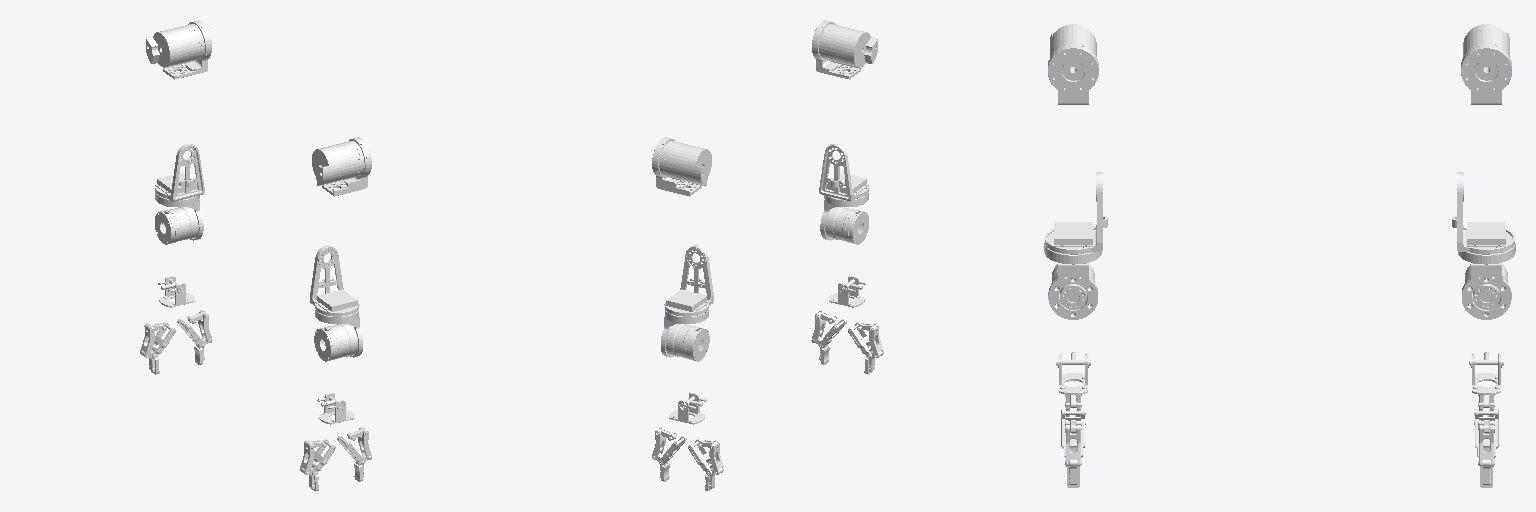
URDF robot description (biped_v3):
<?xml version='1.0' encoding='UTF-8'?>
<!-- This URDF was automatically created by SolidWorks to URDF Exporter! Originally created by [author] ([email redacted]) 
     Commit Version: 1.6.0-4-g7f85cfe  Build Version: 1.6.7995.38578
     For more information, please see http://wiki.ros.org/sw_urdf_exporter -->
<robot name="biped_v3">
  <link name="torso">
    <inertial>
      <origin xyz="-0.00699293960383802 0.00155633220268026 0.152865943474551" rpy="0 0 0"/>
      <mass value="7.71324827879796"/>
      <inertia ixx="0.0426865291658434" ixy="1.85724164379468E-06" ixz="0.0010941107421191" iyy="0.020412125396821" iyz="-3.14875771284261E-06" izz="0.0372747742844986"/>
    </inertial>
    <visual>
      <origin xyz="0 0 0" rpy="0 0 0"/>
      <geometry>
        <mesh filename="../meshes/base_link.obj"/>
      </geometry>
      <material name="">
        <color rgba="0.862745098039216 0.933333333333333 0.929411764705882 1"/>
      </material>
    </visual>
  </link>

  <!-- left arm -->
  <link name="l_arm_pitch">
    <inertial>
      <origin xyz="0.0214306014937492 0.0894803474436048 0.000615912525740503" rpy="0 0 0"/>
      <mass value="0.0855565384250596"/>
      <inertia ixx="0.000130680980046145" ixy="-2.8051476508872E-05" ixz="-4.43154983770371E-08" iyy="6.72732423481097E-05" iyz="-1.04235209424077E-06" izz="0.000113833719965484"/>
    </inertial>
    <visual>
      <origin xyz="0 0 0" rpy="0 0 0"/>
      <geometry>
        <mesh filename="../meshes/l_arm_pitch.obj"/>
      </geometry>
      <material name="">
        <color rgba="1 1 1 1"/>
      </material>
    </visual>
  </link>
  <joint name="l_arm_pitch" type="continuous">
    <origin xyz="-0.0174998525199999 0.121 0.3145" rpy="0 0 0"/>
    <parent link="torso"/>
    <child link="l_arm_pitch"/>
    <axis xyz="0 1 0"/>
  </joint>
  <transmission type="SimpleTransmission">
    <joint name="l_arm_pitch"/>
    <actuator name="l_arm_pitch_motor"/>
  </transmission>

  <link name="l_arm_roll">
    <inertial>
      <origin xyz="-0.035737115963316 0.000637394005623571 -0.00293587457508399" rpy="0 0 0"/>
      <mass value="0.243859089022774"/>
      <inertia ixx="0.000128360157970662" ixy="6.10295766830323E-06" ixz="-1.04763903813656E-05" iyy="0.000190119380770336" iyz="1.1072652385836E-06" izz="0.000178903820792462"/>
    </inertial>
    <visual>
      <origin xyz="0 0 0" rpy="0 0 0"/>
      <geometry>
        <mesh filename="../meshes/l_arm_roll.obj"/>
      </geometry>
      <material name="">
        <color rgba="1 1 1 1"/>
      </material>
    </visual>
  </link>
  <joint name="l_arm_roll" type="continuous">
    <origin xyz="0.0638750000000005 0.143475 0" rpy="0 0 0"/>
    <parent link="l_arm_pitch"/>
    <child link="l_arm_roll"/>
    <axis xyz="1 0 0"/>
  </joint>
  <transmission type="SimpleTransmission">
    <joint name="l_arm_roll"/>
    <actuator name="l_arm_roll_motor"/>
  </transmission>

  <link name="l_arm_yaw">
    <inertial>
      <origin xyz="-0.000196754553523828 -0.00200221985054488 -0.0822363960198868" rpy="0 0 0"/>
      <mass value="0.231645925727573"/>
      <inertia ixx="7.15763821808342E-05" ixy="-7.20357840527445E-07" ixz="1.2879634524044E-07" iyy="0.000116064001916274" iyz="-3.24539663479111E-06" izz="0.000102450224641922"/>
    </inertial>
    <visual>
      <origin xyz="0 0 0" rpy="0 0 0"/>
      <geometry>
        <mesh filename="../meshes/l_arm_yaw.obj"/>
      </geometry>
      <material name="">
        <color rgba="1 1 1 1"/>
      </material>
    </visual>
  </link>
  <joint name="l_arm_yaw" type="continuous">
    <origin xyz="-0.0436732904500001 -0.000228544867618807 -0.0507499999999994" rpy="0 0 0"/>
    <parent link="l_arm_roll"/>
    <child link="l_arm_yaw"/>
    <axis xyz="0 0.0045033014816499 0.999989860086474"/>
  </joint>
  <transmission type="SimpleTransmission">
    <joint name="l_arm_yaw"/>
    <actuator name="l_arm_yaw_motor"/>
  </transmission>

  <link name="l_forearm_pitch">
    <inertial>
      <origin xyz="-1.76621857590764E-09 0.0247675246684128 -0.070263864959373" rpy="0 0 0"/>
      <mass value="0.100717925891199"/>
      <inertia ixx="6.81753177964767E-05" ixy="-1.3166203212202E-12" ixz="-2.01946859234465E-12" iyy="6.38358674774755E-05" iyz="1.22265699624491E-05" izz="7.39768830554407E-05"/>
    </inertial>
    <visual>
      <origin xyz="0 0 0" rpy="0 0 0"/>
      <geometry>
        <mesh filename="../meshes/l_forearm_pitch.obj"/>
      </geometry>
      <material name="">
        <color rgba="1 1 1 1"/>
      </material>
    </visual>
  </link>
  <joint name="l_forearm_pitch" type="continuous">
    <origin xyz="0 -0.0300214551323814 -0.1357" rpy="0 0 0"/>
    <parent link="l_arm_yaw"/>
    <child link="l_forearm_pitch"/>
    <axis xyz="0 1 0"/>
  </joint>
  <transmission type="SimpleTransmission">
    <joint name="l_forearm_pitch"/>
    <actuator name="l_forearm_pitch_motor"/>
  </transmission>

  <link name="l_forearm_yaw">
    <inertial>
      <origin xyz="-0.00399570091504528 2.98471488309193E-05 -0.0656133809823523" rpy="0 0 0"/>
      <mass value="0.156174407901059"/>
      <inertia ixx="7.01872239868571E-05" ixy="-1.62696734264376E-07" ixz="-4.54392258182991E-07" iyy="7.29165229929418E-05" iyz="-7.2325873682261E-09" izz="6.87979464480365E-05"/>
    </inertial>
    <visual>
      <origin xyz="0 0 0" rpy="0 0 0"/>
      <geometry>
        <mesh filename="../meshes/l_forearm_yaw.obj"/>
      </geometry>
      <material name="">
        <color rgba="1 1 1 1"/>
      </material>
    </visual>
  </link>
  <joint name="l_forearm_yaw" type="continuous">
    <origin xyz="0 0.0302500000000002 -0.0915499999999999" rpy="0 0 0"/>
    <parent link="l_forearm_pitch"/>
    <child link="l_forearm_yaw"/>
    <axis xyz="0 0 1"/>
  </joint>
  <transmission type="SimpleTransmission">
    <joint name="l_forearm_yaw"/>
    <actuator name="l_forearm_yaw_motor"/>
  </transmission>

  <link name="l_hand_roll">
    <inertial>
      <origin xyz="0.0166010838376317 1.21699082866744E-07 1.73724289204147E-07" rpy="0 0 0"/>
      <mass value="0.00225080087545489"/>
      <inertia ixx="1.93486939049626E-07" ixy="1.34751407910019E-12" ixz="-9.12379114183907E-13" iyy="1.3659940311531E-07" iyz="2.34311788925342E-12" izz="3.17250990444323E-07"/>
    </inertial>
    <visual>
      <origin xyz="0 0 0" rpy="0 0 0"/>
      <geometry>
        <mesh filename="../meshes/l_hand_roll.obj"/>
      </geometry>
      <material name="">
        <color rgba="1 1 1 1"/>
      </material>
    </visual>
  </link>
  <joint name="l_hand_roll" type="continuous">
    <origin xyz="-0.025322 0 -0.1575" rpy="0 0 0"/>
    <parent link="l_forearm_yaw"/>
    <child link="l_hand_roll"/>
    <axis xyz="1 0 0"/>
  </joint>
  <transmission type="SimpleTransmission">
    <joint name="l_hand_roll"/>
    <actuator name="l_hand_roll_motor"/>
  </transmission>
  <link name="l_hand_pitch">
    <inertial>
      <origin xyz="0.00216452934621551 -6.77719551251399E-05 -0.0859772405742664" rpy="0 0 0"/>
      <mass value="0.0531311255846087"/>
      <inertia ixx="1.140633456061E-05" ixy="-1.76559662166693E-10" ixz="2.91544414425806E-07" iyy="1.10990606835989E-05" iyz="-7.83300192322812E-10" izz="8.19218367742265E-06"/>
    </inertial>
    <visual>
      <origin xyz="0 0 0" rpy="0 0 0"/>
      <geometry>
        <mesh filename="../meshes/l_hand_pitch.obj"/>
      </geometry>
      <material name="">
        <color rgba="1 1 1 1"/>
      </material>
    </visual>
  </link>
  <joint name="l_hand_pitch" type="continuous">
    <origin xyz="0.02137 0 0" rpy="0 0 0"/>
    <parent link="l_hand_roll"/>
    <child link="l_hand_pitch"/>
    <axis xyz="0 1 0"/>
  </joint>
  <transmission type="SimpleTransmission">
    <joint name="l_hand_pitch"/>
    <actuator name="l_hand_pitch_motor"/>
  </transmission>

  <!-- right arm -->
  <link name="r_arm_pitch">
    <inertial>
      <origin xyz="0.0214306041026405 -0.0844803465442086 0.00061581470811356" rpy="0 0 0"/>
      <mass value="0.0855564935505709"/>
      <inertia ixx="0.000130680921242486" ixy="2.80514667713823E-05" ixz="-4.43612197682304E-08" iyy="6.72732085095452E-05" iyz="1.04250551958736E-06" izz="0.000113833677598239"/>
    </inertial>
    <visual>
      <origin xyz="0 0 0" rpy="0 0 0"/>
      <geometry>
        <mesh filename="../meshes/r_arm_pitch.obj"/>
      </geometry>
      <material name="">
        <color rgba="1 1 1 1"/>
      </material>
    </visual>
  </link>
  <joint name="r_arm_pitch" type="continuous">
    <origin xyz="-0.0174998525199999 -0.126 0.3145" rpy="0 0 0"/>
    <parent link="torso"/>
    <child link="r_arm_pitch"/>
    <axis xyz="0 1 0"/>
  </joint>
  <transmission type="SimpleTransmission">
    <joint name="r_arm_pitch"/>
    <actuator name="r_arm_pitch_motor"/>
  </transmission>

  <link name="r_arm_roll">
    <inertial>
      <origin xyz="-0.0357371168973825 -0.000637394797891544 -0.00293587513361748" rpy="0 0 0"/>
      <mass value="0.24385908133804"/>
      <inertia ixx="0.000128360143073782" ixy="-6.10295800980191E-06" ixz="-1.0476390047817E-05" iyy="0.000190119367974024" iyz="-1.10726166060552E-06" izz="0.000178903821203388"/>
    </inertial>
    <visual>
      <origin xyz="0 0 0" rpy="0 0 0"/>
      <geometry>
        <mesh filename="../meshes/r_arm_roll.obj"/>
      </geometry>
      <material name="">
        <color rgba="1 1 1 1"/>
      </material>
    </visual>
  </link>
  <joint name="r_arm_roll" type="continuous">
    <origin xyz="0.0638750000000006 -0.138475 0" rpy="0 0 0"/>
    <parent link="r_arm_pitch"/>
    <child link="r_arm_roll"/>
    <axis xyz="1 0 0"/>
  </joint>
  <transmission type="SimpleTransmission">
    <joint name="r_arm_roll"/>
    <actuator name="r_arm_roll_motor"/>
  </transmission>

  <link name="r_arm_yaw">
    <inertial>
      <origin xyz="-0.000194980244391281 0.00223075394549077 -0.0832363148203375" rpy="0 0 0"/>
      <mass value="0.231645950350007"/>
      <inertia ixx="7.15747672025054E-05" ixy="7.20299540431296E-07" ixz="1.30045936565256E-07" iyy="0.00011606243891087" iyz="3.24540546737595E-06" izz="0.000102450220317482"/>
    </inertial>
    <visual>
      <origin xyz="0 0 0" rpy="0 0 0"/>
      <geometry>
        <mesh filename="../meshes/r_arm_yaw.obj"/>
      </geometry>
      <material name="">
        <color rgba="1 1 1 1"/>
      </material>
    </visual>
  </link>
  <joint name="r_arm_yaw" type="continuous">
    <origin xyz="-0.0436749999999998 0 -0.0497499999999998" rpy="0 0 0"/>
    <parent link="r_arm_roll"/>
    <child link="r_arm_yaw"/>
    <axis xyz="0 0 1"/>
  </joint>
  <transmission type="SimpleTransmission">
    <joint name="r_arm_yaw"/>
    <actuator name="r_arm_yaw_motor"/>
  </transmission>

  <link name="r_forearm_pitch">
    <inertial>
      <origin xyz="7.1803206297405E-09 -0.0235362732742576 -0.0656063288648233" rpy="0 0 0"/>
      <mass value="0.082246913288193"/>
      <inertia ixx="6.24507314646795E-05" ixy="-6.49100177668853E-12" ixz="3.722894079977E-12" iyy="5.81112784382459E-05" iyz="-1.22265695808957E-05" izz="6.2829761531135E-05"/>
    </inertial>
    <visual>
      <origin xyz="0 0 0" rpy="0 0 0"/>
      <geometry>
        <mesh filename="../meshes/r_forearm_pitch.obj"/>
      </geometry>
      <material name="">
        <color rgba="1 1 1 1"/>
      </material>
    </visual>
  </link>
  <joint name="r_forearm_pitch" type="continuous">
    <origin xyz="0 0.0302500000000003 -0.1377" rpy="0 0 0"/>
    <parent link="r_arm_yaw"/>
    <child link="r_forearm_pitch"/>
    <axis xyz="0 1 0"/>
  </joint>
  <transmission type="SimpleTransmission">
    <joint name="r_forearm_pitch"/>
    <actuator name="r_forearm_pitch_motor"/>
  </transmission>

  <link name="r_forearm_yaw">
    <inertial>
      <origin xyz="-0.00399571587295026 -2.98574044384492E-05 -0.0656134416270269" rpy="0 0 0"/>
      <mass value="0.156174142689454"/>
      <inertia ixx="7.01871005830262E-05" ixy="1.62591814390724E-07" ixz="-4.54374332575993E-07" iyy="7.29165016216887E-05" iyz="7.3578843890099E-09" izz="6.87978478315219E-05"/>
    </inertial>
    <visual>
      <origin xyz="0 0 0" rpy="0 0 0"/>
      <geometry>
        <mesh filename="../meshes/r_forearm_yaw.obj"/>
      </geometry>
      <material name="">
        <color rgba="1 1 1 1"/>
      </material>
    </visual>
  </link>
  <joint name="r_forearm_yaw" type="continuous">
    <origin xyz="0 -0.0302500000000002 -0.0905499999999999" rpy="0 0 0"/>
    <parent link="r_forearm_pitch"/>
    <child link="r_forearm_yaw"/>
    <axis xyz="0 0 1"/>
  </joint>
  <transmission type="SimpleTransmission">
    <joint name="r_forearm_yaw"/>
    <actuator name="r_forearm_yaw_motor"/>
  </transmission>

  <link name="r_hand_roll">
    <inertial>
      <origin xyz="0.0166010838484253 -1.21914575379467E-07 -1.70258151493963E-07" rpy="0 0 0"/>
      <mass value="0.00225080086305129"/>
      <inertia ixx="1.93486938959377E-07" ixy="-1.35418412773771E-12" ixz="9.16670576988079E-13" iyy="1.36599402900294E-07" iyz="2.34295717847431E-12" izz="3.17250989285096E-07"/>
    </inertial>
    <visual>
      <origin xyz="0 0 0" rpy="0 0 0"/>
      <geometry>
        <mesh filename="../meshes/r_hand_roll.obj"/>
      </geometry>
      <material name="">
        <color rgba="1 1 1 1"/>
      </material>
    </visual>
  </link>
  <joint name="r_hand_roll" type="continuous">
    <origin xyz="-0.025322 0 -0.1575" rpy="0 0 0"/>
    <parent link="r_forearm_yaw"/>
    <child link="r_hand_roll"/>
    <axis xyz="1 0 0"/>
  </joint>
  <transmission type="SimpleTransmission">
    <joint name="r_hand_roll"/>
    <actuator name="r_hand_roll_motor"/>
  </transmission>

  <link name="r_hand_pitch">
    <inertial>
      <origin xyz="0.00214702310217297 -7.83584216464961E-05 -0.0852818706514631" rpy="0 0 0"/>
      <mass value="0.0535643416316945"/>
      <inertia ixx="1.14121247582596E-05" ixy="1.76471512895622E-10" ixz="2.91544422581543E-07" iyy="1.11095803968485E-05" iyz="7.83308829804773E-10" izz="8.19797394000677E-06"/>
    </inertial>
    <visual>
      <origin xyz="0 0 0" rpy="0 0 0"/>
      <geometry>
        <mesh filename="../meshes/r_hand_pitch.obj"/>
      </geometry>
      <material name="">
        <color rgba="1 1 1 1"/>
      </material>
    </visual>
  </link>
  <joint name="r_hand_pitch" type="continuous">
    <origin xyz="0.02137 0 0" rpy="0 0 0"/>
    <parent link="r_hand_roll"/>
    <child link="r_hand_pitch"/>
    <axis xyz="0 1 0"/>
  </joint>
  <transmission type="SimpleTransmission">
    <joint name="r_hand_pitch"/>
    <actuator name="r_hand_pitch_motor"/>
  </transmission>

</robot>

--- Render facts (derived) ---
3 views of the same robot in one strip: view 1: azimuth 30°, elevation 25°; view 2: azimuth 150°, elevation 25°; view 3: azimuth 270°, elevation 25° (orthographic).
Model biped_v3 with 15 links and 14 joints (14 continuous), rooted at torso, posed all joints at 0.
Links seen in each view (by area): view 1: l_arm_roll, r_arm_roll, r_hand_pitch, l_hand_pitch, r_forearm_pitch, l_forearm_pitch, r_forearm_yaw, l_forearm_yaw; view 2: r_arm_roll, l_arm_roll, r_hand_pitch, l_hand_pitch, l_forearm_pitch, r_forearm_pitch, l_forearm_yaw, r_forearm_yaw; view 3: l_arm_roll, r_arm_roll, l_forearm_pitch, r_forearm_pitch, l_hand_pitch, r_hand_pitch, l_forearm_yaw, r_forearm_yaw.
Boxes of the visible links, x1,y1,x2,y2 form: l_arm_roll: (146, 20, 211, 79); r_arm_roll: (312, 137, 371, 196); r_hand_pitch: (300, 393, 371, 490); l_hand_pitch: (140, 276, 212, 374); r_forearm_pitch: (310, 245, 359, 323); l_forearm_pitch: (155, 144, 204, 206); r_forearm_yaw: (314, 317, 362, 361); l_forearm_yaw: (155, 200, 203, 244); r_arm_roll: (812, 20, 877, 79); l_arm_roll: (652, 137, 711, 196); r_hand_pitch: (811, 276, 883, 374); l_hand_pitch: (652, 393, 723, 490); l_forearm_pitch: (664, 245, 713, 323); r_forearm_pitch: (819, 144, 868, 206); l_forearm_yaw: (661, 317, 709, 361); r_forearm_yaw: (820, 200, 868, 244); l_arm_roll: (1461, 24, 1511, 104); r_arm_roll: (1048, 24, 1098, 104); l_forearm_pitch: (1452, 172, 1515, 264); r_forearm_pitch: (1044, 172, 1107, 264); l_hand_pitch: (1470, 354, 1502, 487); r_hand_pitch: (1057, 354, 1089, 487); l_forearm_yaw: (1462, 263, 1511, 319); r_forearm_yaw: (1048, 263, 1097, 319).
Size in the robot's own frame: 0.1286 by 0.6029 by 0.6229 metres.
10 mesh visuals loaded from 15 distinct referenced files (10 OBJ); not drawn: 5 (reference not matched to a file when rendering).